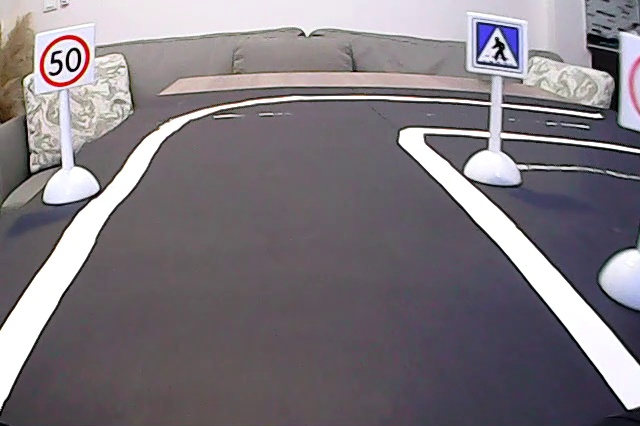pedestrian crossing: (472, 18, 524, 74)
speed limit 50: (38, 32, 94, 88)
